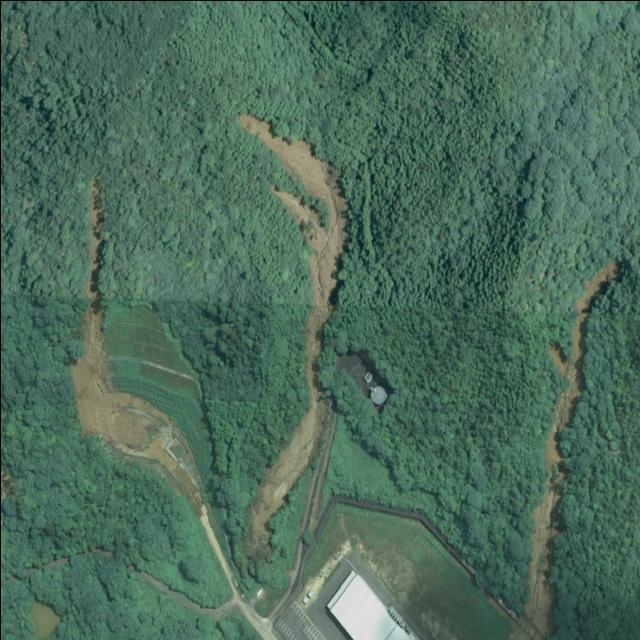landslide: (238, 113, 347, 560), (524, 260, 621, 638), (85, 177, 102, 309)
